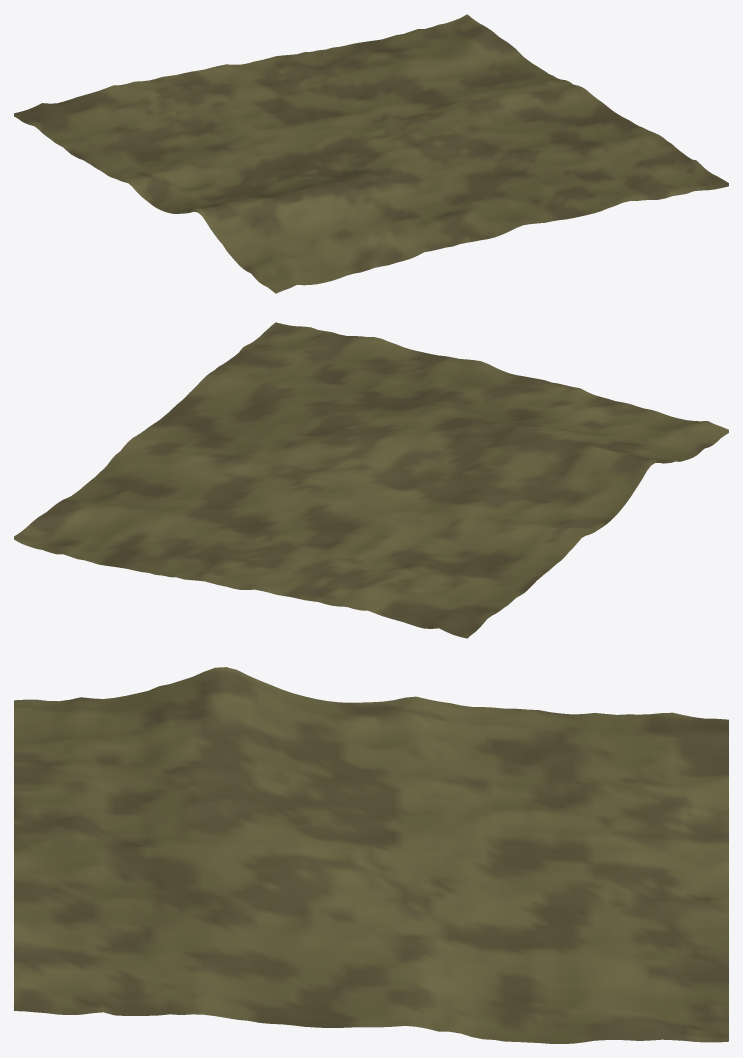
File: land_f_03_07.glb
The picture shows the model from 3 angles, top to bottom: view 1: azimuth 30°, elevation 25°; view 2: azimuth 150°, elevation 25°; view 3: azimuth 270°, elevation 25°; orthographic projection. The views are drawn at different scales.
Visible parts, largest first — view 1: land_f_03_07; view 2: land_f_03_07; view 3: land_f_03_07.
Boxes of the visible parts, x1,y1,x2,y2 form: land_f_03_07: (14, 14, 728, 293); land_f_03_07: (14, 322, 728, 638); land_f_03_07: (14, 667, 728, 1043).
Bounding box in the file's own units: 3840 × 465 × 3840.
